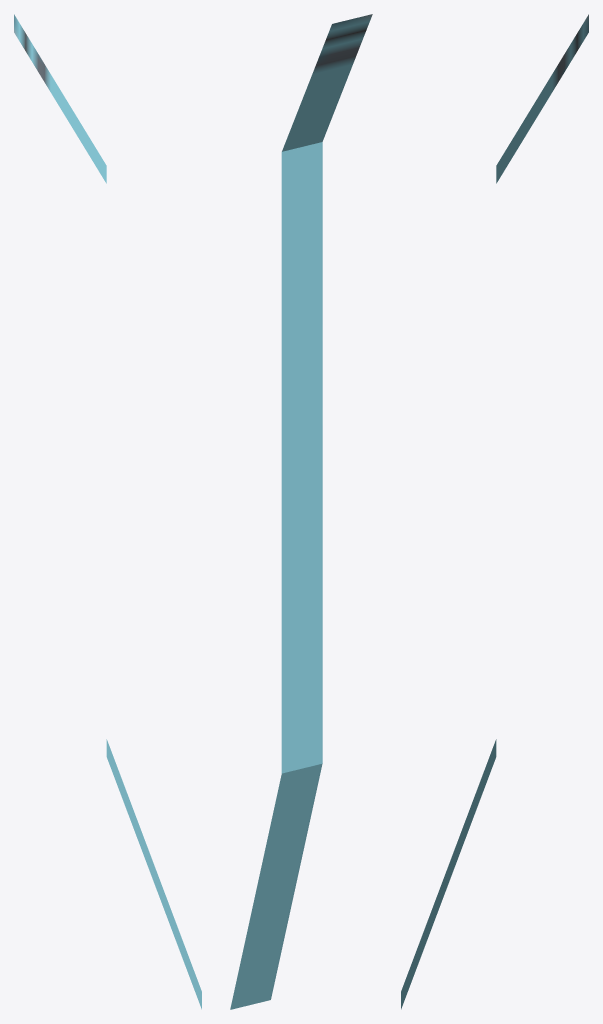
File: ef_mianpian_1.fbx
3 views of the same model, side by side, from view 1: azimuth 90°, elevation 25°; view 2: azimuth 210°, elevation 25°; view 3: azimuth 270°, elevation 25° (orthographic). The views are drawn at different scales.
Parts seen in each view (by area): view 1: polySurface2; view 2: polySurface2; view 3: polySurface2.
Part boxes in pixels (<box>): polySurface2: <box>14,14,201,1009</box>; polySurface2: <box>230,14,372,1009</box>; polySurface2: <box>401,14,588,1009</box>.
Bounding box in the file's own units: 15.15 × 376 × 65.59.
